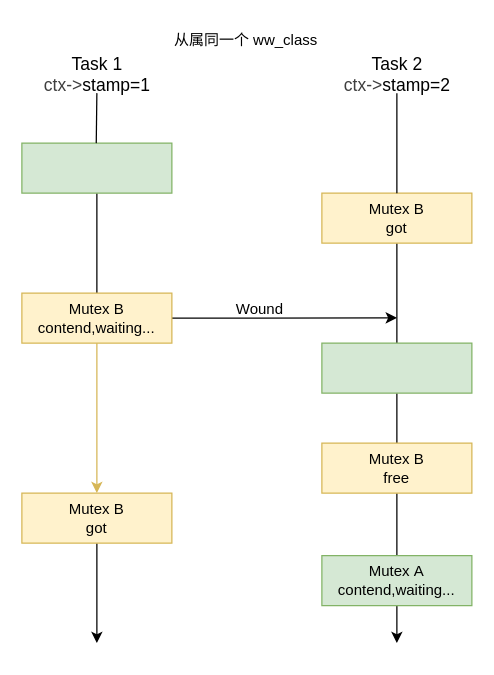
Image size: 494x675. Some labels were removed from this diagram. The centre of each missing label's shape, as x and y in pixels:
Mutex A got: the point at 96,167
Mutex A return -DEADLOCK: the point at 396,367
